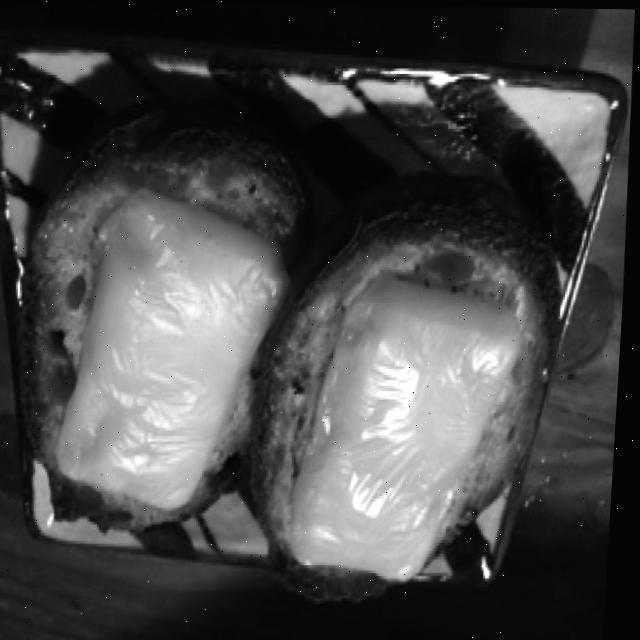面包点心: (15, 71, 577, 610)
